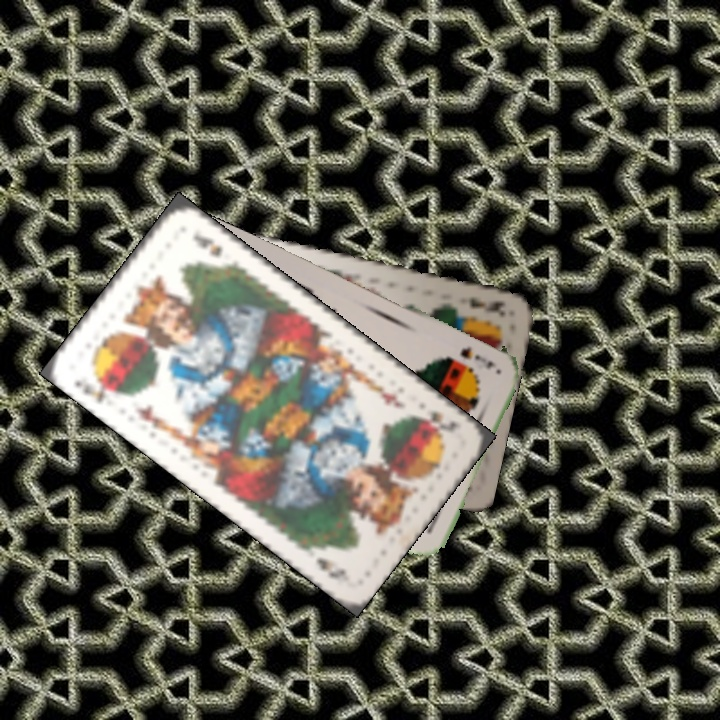EK: (464, 292, 509, 319)
SK: (412, 406, 461, 438), (69, 370, 111, 407)
SO: (456, 342, 497, 372)
